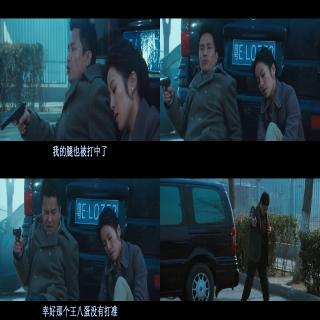gun: (0, 99, 28, 136), (160, 74, 172, 104), (11, 225, 23, 255), (252, 216, 256, 226)
